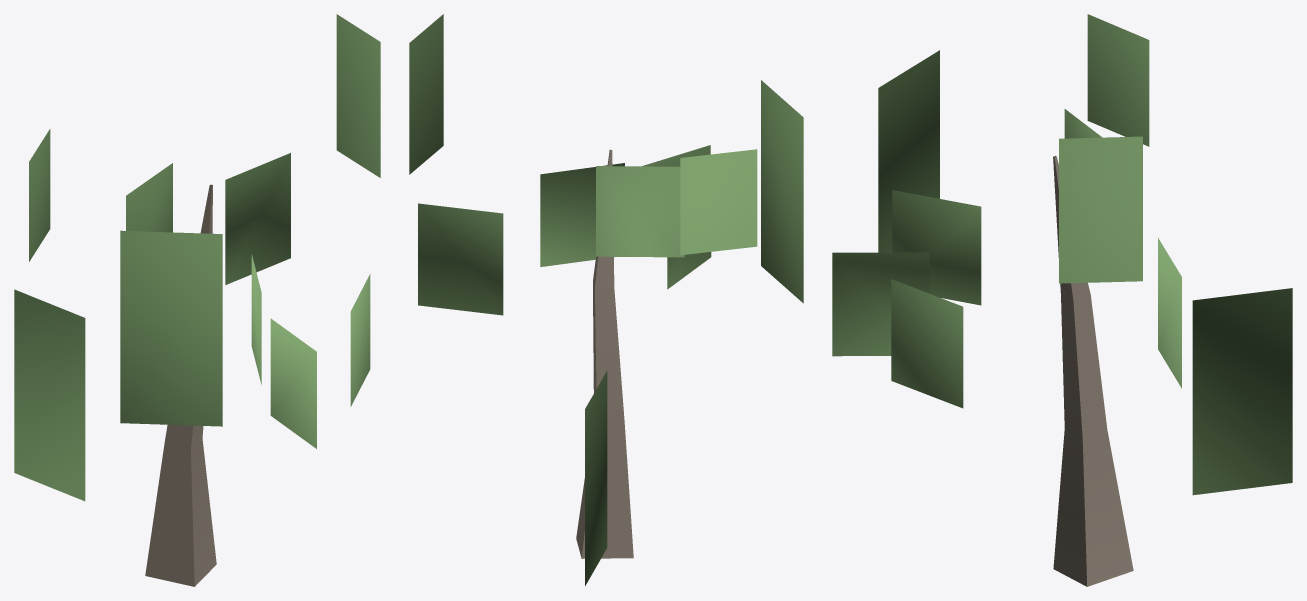
File: tree_willow_a_lod2.glb
The picture shows the model from 3 angles, left to right: view 1: azimuth 30°, elevation 25°; view 2: azimuth 150°, elevation 25°; view 3: azimuth 270°, elevation 25°; orthographic projection. The views are drawn at different scales.
Parts seen in each view (by area): view 1: tree_willow_a_lod2; view 2: tree_willow_a_lod2; view 3: tree_willow_a_lod2.
Part boxes in pixels (left/top/right/bottom): tree_willow_a_lod2: left=14, top=14, right=380, bottom=586; tree_willow_a_lod2: left=409, top=14, right=803, bottom=585; tree_willow_a_lod2: left=832, top=14, right=1292, bottom=586.
Bounding box in the file's own units: 6.52 × 9.16 × 7.24.
